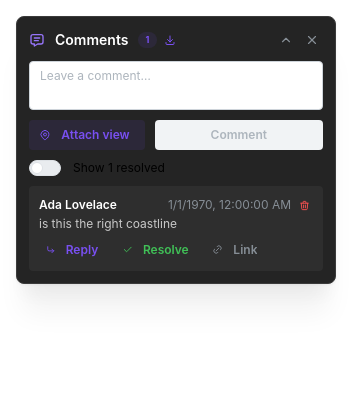
Test: live comments panel › hides a resolved thread until the filter is switched on
The width and height of the screenshot is (352, 411).
Check: the number of elements with test id "comment-thread" is 1, box [29, 186, 323, 271]
Click the switch labelled "Show 1 resolved": coordinates (97, 168) [29, 160, 165, 176]
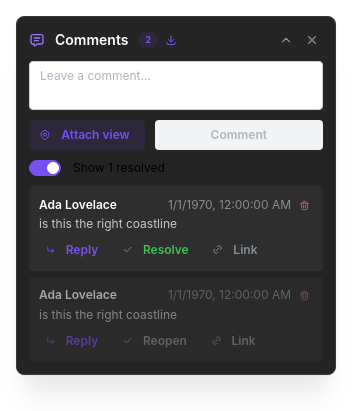
Check: the number of elements with test id "comment-thread" is 2, box [29, 186, 323, 271]; [29, 277, 323, 362]
